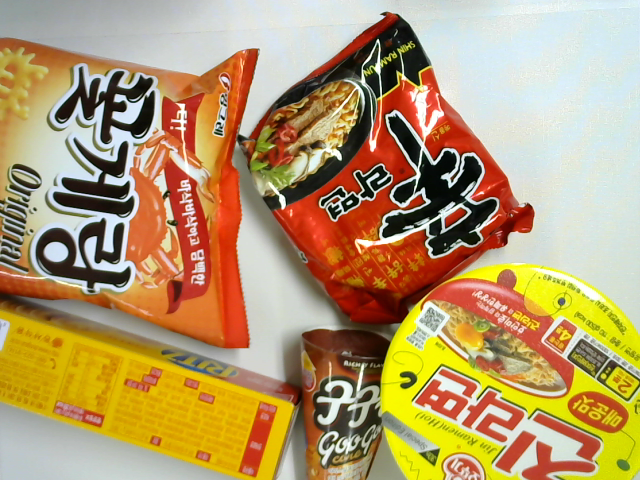Crabrang: (1, 35, 260, 351)
GooGoo_Cone_CVS: (298, 328, 394, 480)
Jinlamyeon_Hot_Taste_Large_Cup: (375, 262, 640, 480)
Ritz_Sand_Cracker: (1, 295, 303, 480)
Sinramen: (233, 11, 536, 327)
